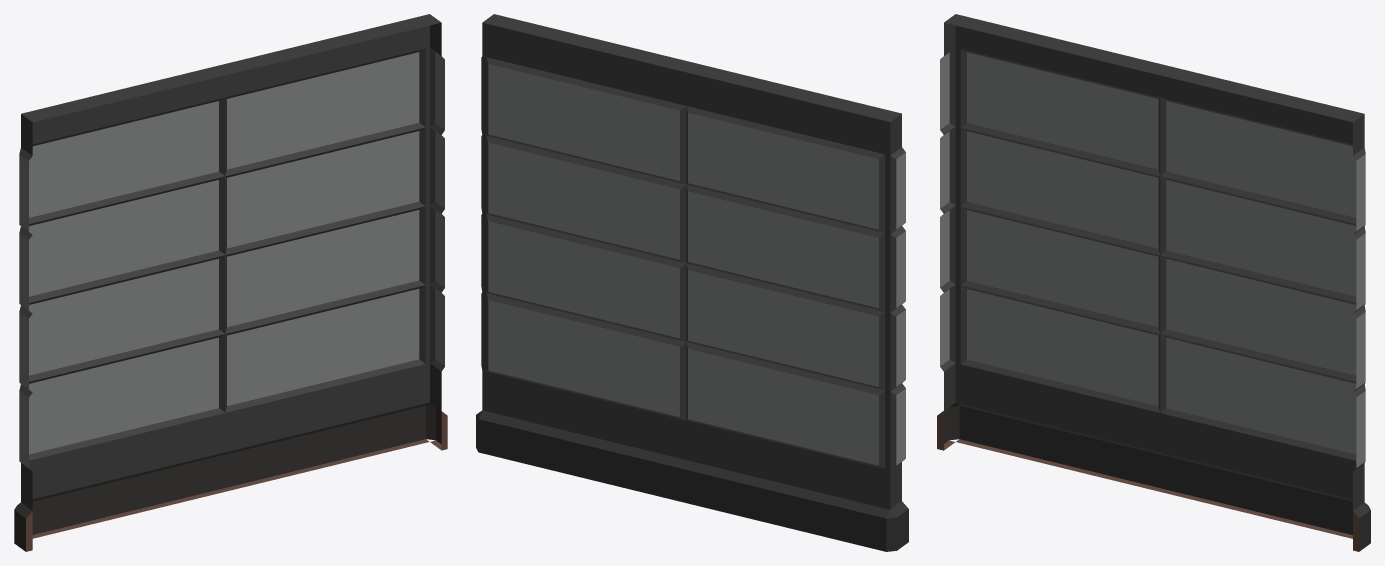
The model's file is db_wall.glb.
3 renders of one model, left to right at view 1: azimuth 30°, elevation 25°; view 2: azimuth 150°, elevation 25°; view 3: azimuth 330°, elevation 25°, orthographic.
Visible parts, largest first — view 1: Wall; view 2: Wall; view 3: Wall.
Part boxes in pixels (box(x1,y1,x2,y2)): Wall: box(14, 14, 447, 551); Wall: box(476, 14, 908, 551); Wall: box(937, 14, 1370, 551).
Size of the model in its own units: 5.16 by 5 by 0.3319.
1 material, 1 textured.
